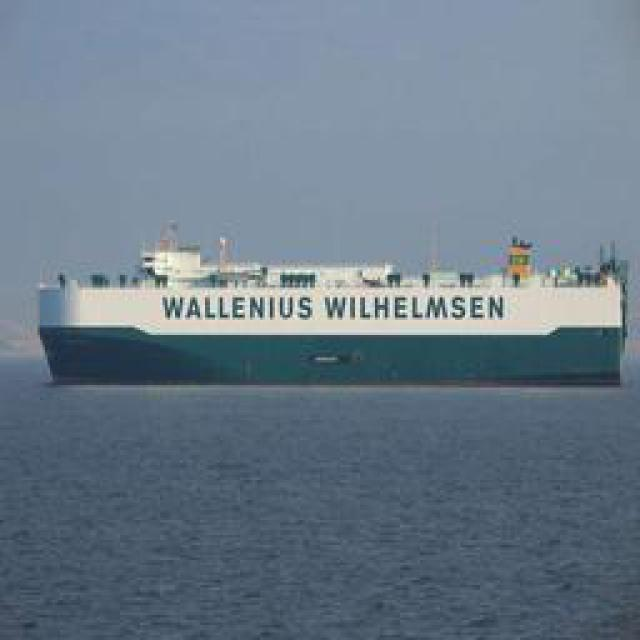Ship: (23, 221, 640, 356)
